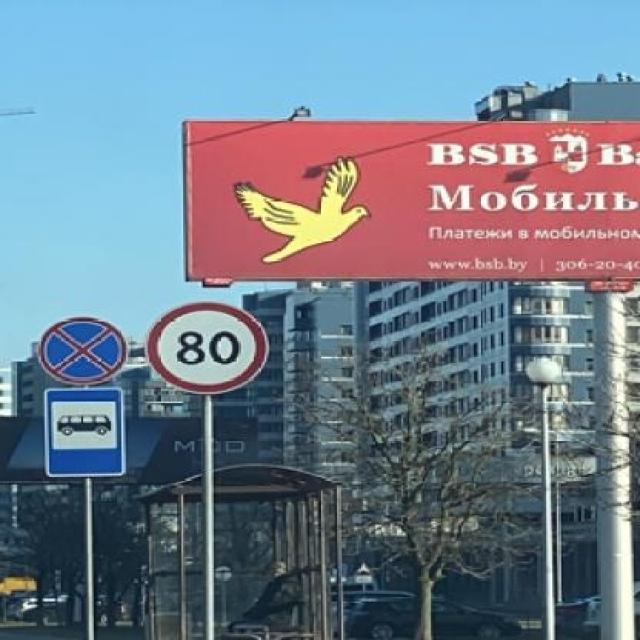forb_speed_over_80: (150, 298, 265, 397)
